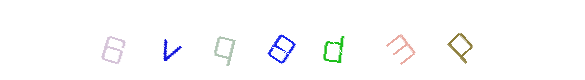3: (362, 0, 442, 80)
6: (145, 0, 225, 80)
8: (252, 0, 332, 80)
D: (294, 0, 374, 80)
P: (420, 0, 500, 80)
Q: (208, 0, 288, 80)
V: (201, 0, 281, 80)
